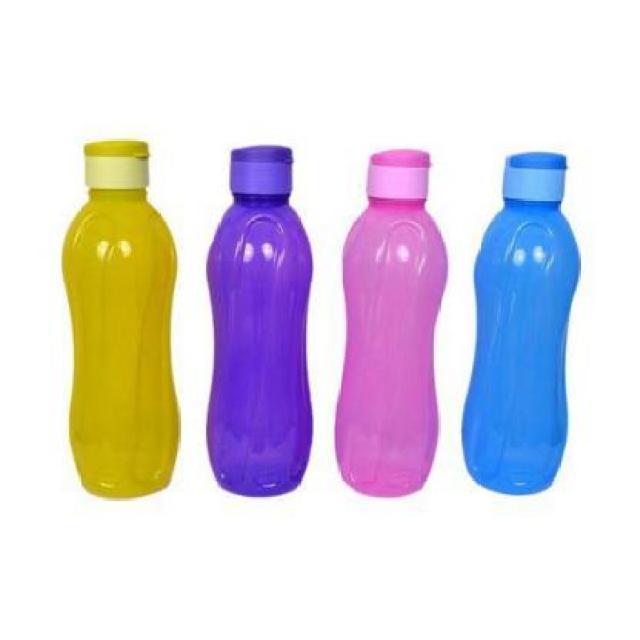Drinking: (41, 123, 187, 505), (200, 135, 322, 522), (468, 126, 580, 497), (341, 136, 453, 504)
